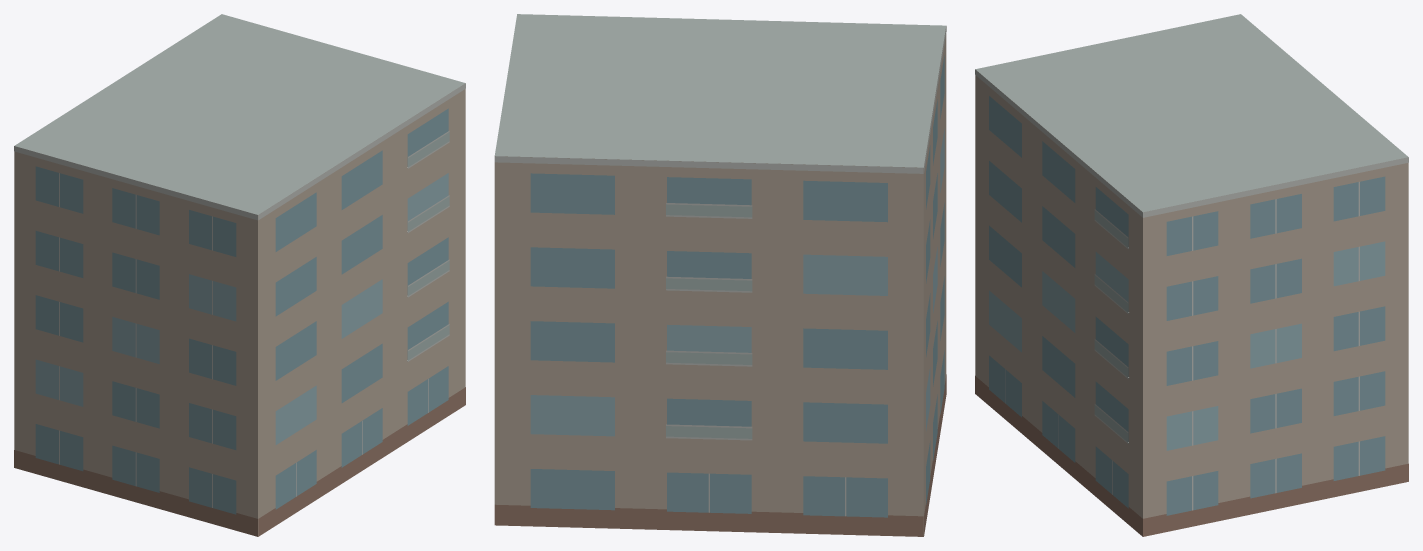
File: survey-upis-32656751.glb
3 views of the same model, side by side, from view 1: azimuth 30°, elevation 25°; view 2: azimuth 150°, elevation 25°; view 3: azimuth 270°, elevation 25° (orthographic). The views are drawn at different scales.
Visible parts, largest first — view 1: survey-upis-32656751.tmp; view 2: survey-upis-32656751.tmp; view 3: survey-upis-32656751.tmp.
Boxes of the visible parts, x1,y1,x2,y2 form: survey-upis-32656751.tmp: (14, 14, 465, 536); survey-upis-32656751.tmp: (494, 14, 946, 536); survey-upis-32656751.tmp: (975, 14, 1408, 536).
Bounding box in the file's own units: 18.75 × 14.3 × 17.33.
